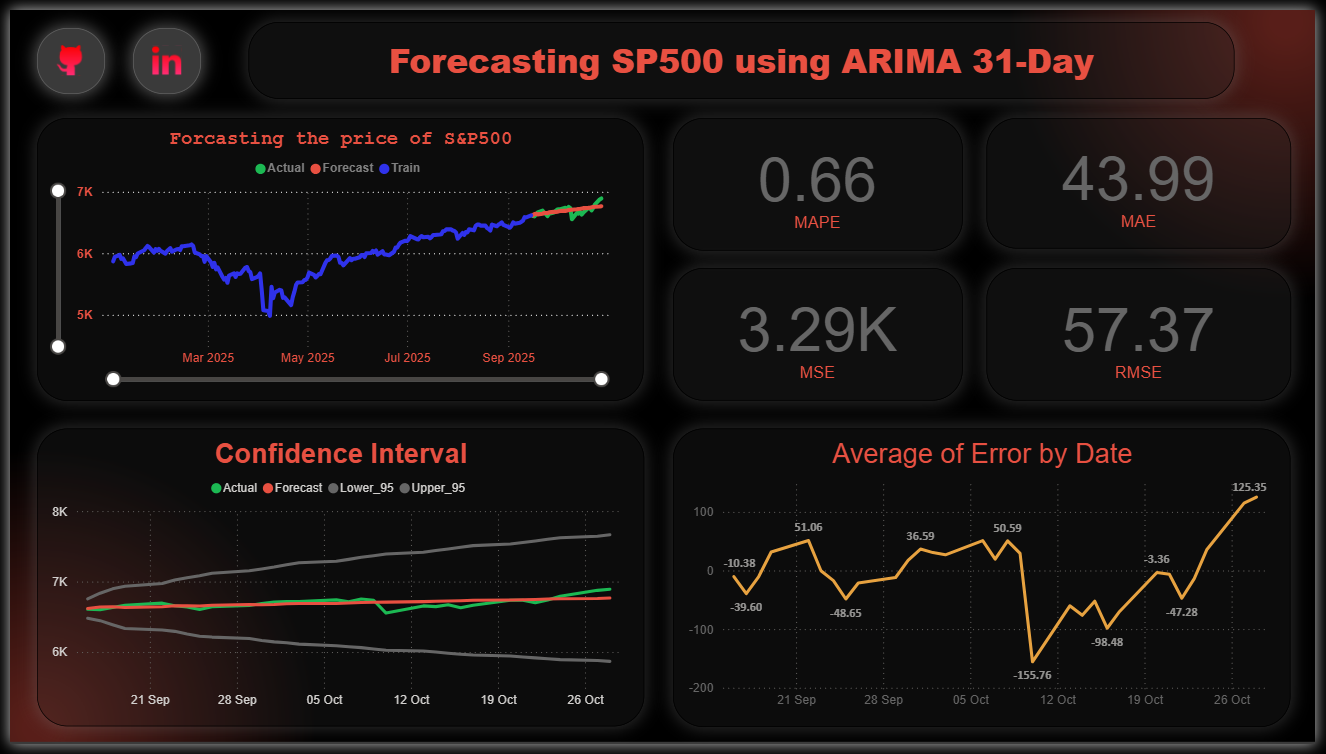

The page's visual inventory and layout, read from the dashboard file:
{"tool":"powerbi","page":{"name":"ARIMA 31-DAY","canvas":[1280,720],"ordinal":3},"visuals":[{"type":"lineChart","title":"Forcasting the price of S&P500","fields":{"Category":["SP500_All.Date.Variation.Date Hierarchy.Year"],"Series":["SP500_All.Source"],"Y":["Sum(SP500_All.Price)"]},"box":[26.9,105.4,594.6,277.4],"z":0},{"type":"card","fields":{"Values":["SP500_All.MAE"]},"box":[957,105.4,298.9,128],"z":1000},{"type":"card","fields":{"Values":["SP500_All.MAPE"]},"box":[650.5,105.4,283.9,130.1],"z":2000},{"type":"card","fields":{"Values":["SP500_All.MSE"]},"box":[650.5,252.7,283.9,130.1],"z":3000},{"type":"card","fields":{"Values":["SP500_All.RMSE"]},"box":[957,252.7,298.9,130.1],"z":4000},{"type":"lineChart","fields":{"Y":["Avg(sp500_combined.Error)"],"Category":["sp500_combined.Date"]},"box":[650.5,409.7,605.4,292.5],"z":5000},{"type":"textbox","box":[234.4,12.2,966.7,75.6],"z":6000},{"type":"lineChart","title":"Confidence Interval","fields":{"Y":["Sum(sp500_combined.Actual)","Sum(sp500_confidence.Forecast)","Sum(sp500_confidence.Lower_95)","Sum(sp500_confidence.Upper_95)"],"Category":["sp500_confidence.Date"]},"box":[27,410,595,292],"z":7000},{"type":"actionButton","box":[26.7,17.8,66.7,64.4],"z":8000},{"type":"actionButton","box":[121.1,17.8,66.7,64.4],"z":9000}]}

Visuals, with their boxes in screenshot pixels (x1, y1, x2, y2), scaled from the page's 1280x720 canvas onto the 1326x754 screenshot:
"Forcasting the price of S&P500" lineChart: <region>28, 110, 644, 401</region>
card - SP500_All.MAE: <region>991, 110, 1301, 244</region>
card - SP500_All.MAPE: <region>674, 110, 968, 247</region>
card - SP500_All.MSE: <region>674, 265, 968, 401</region>
card - SP500_All.RMSE: <region>991, 265, 1301, 401</region>
lineChart - Avg(sp500_combined.Error) x sp500_combined.Date: <region>674, 429, 1301, 735</region>
textbox: <region>243, 13, 1244, 92</region>
"Confidence Interval" lineChart: <region>28, 429, 644, 735</region>
actionButton: <region>28, 19, 97, 86</region>
actionButton: <region>125, 19, 195, 86</region>
